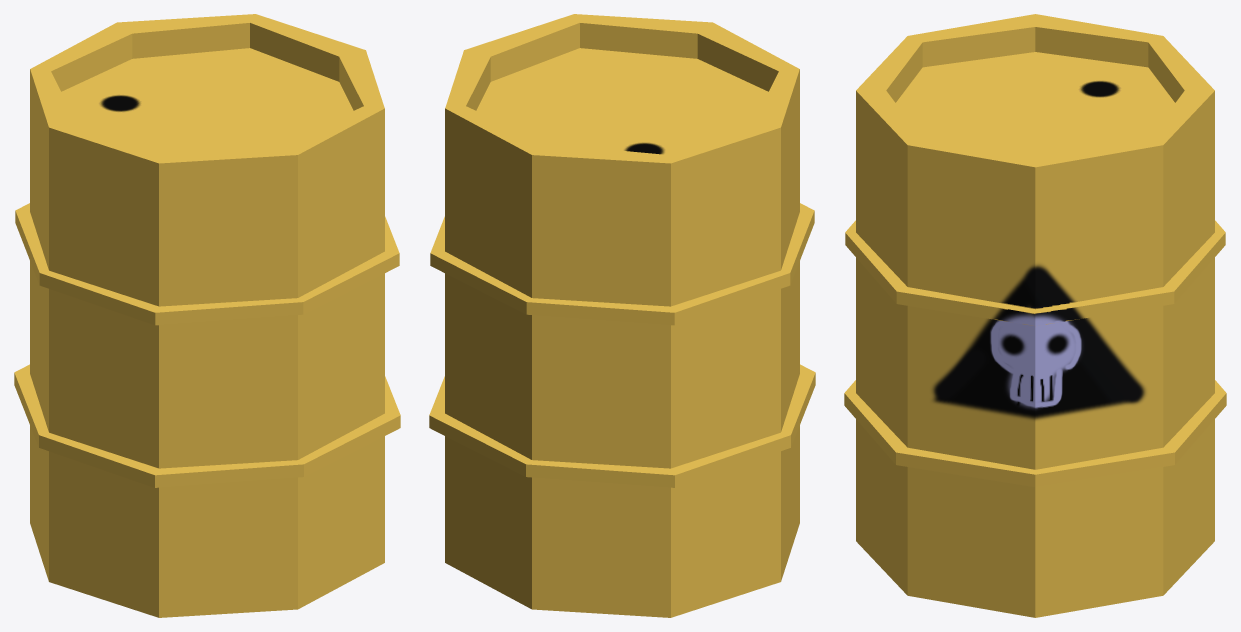
The picture shows the model from 3 angles, left to right: view 1: azimuth 30°, elevation 25°; view 2: azimuth 150°, elevation 25°; view 3: azimuth 270°, elevation 25°; orthographic projection.
Visible parts, largest first — view 1: barel; view 2: barel; view 3: barel.
Boxes of the visible parts, x1,y1,x2,y2 form: barel: [14, 14, 400, 617]; barel: [429, 14, 815, 617]; barel: [844, 14, 1226, 617].
Bounding box in the file's own units: 0.9472 × 1.22 × 0.9382.
Materials: 1 (1 with a texture image).
